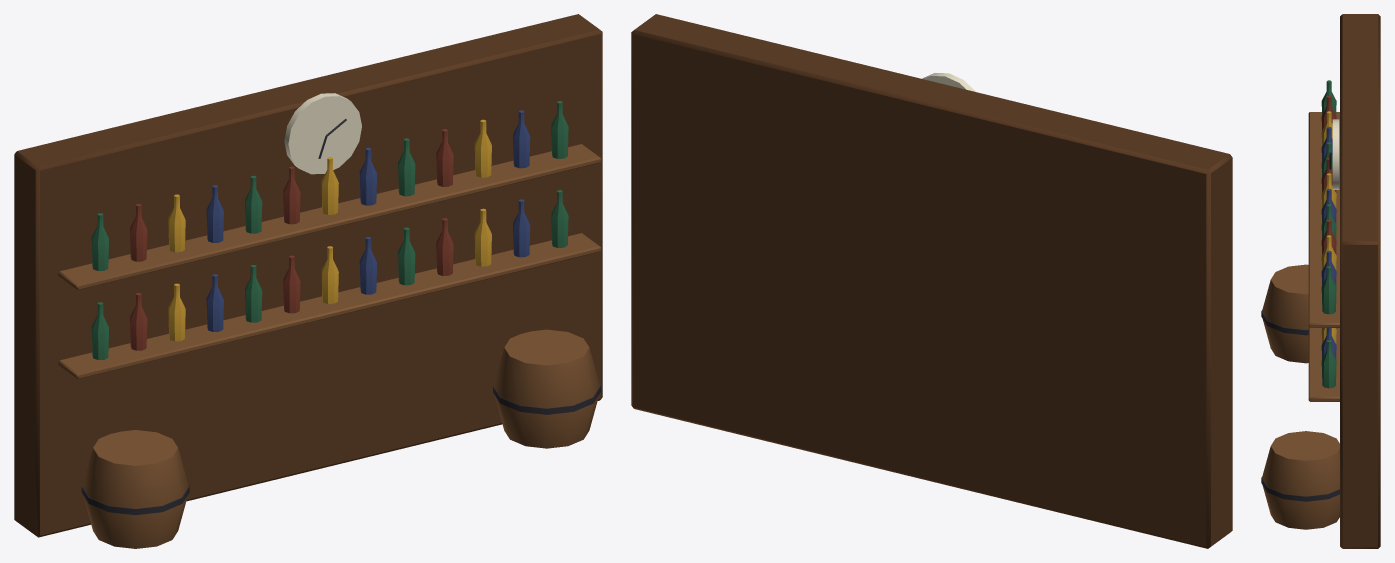
File: bar_back.glb
3 views of the same model, side by side, from view 1: azimuth 30°, elevation 25°; view 2: azimuth 150°, elevation 25°; view 3: azimuth 270°, elevation 25° (orthographic). The views are drawn at different scales.
Visible parts, largest first — view 1: bar_back; view 2: bar_back; view 3: bar_back.
Boxes of the visible parts, box(x1,y1,x2,y2) form: bar_back: box(14, 14, 602, 548); bar_back: box(631, 14, 1232, 548); bar_back: box(1261, 14, 1380, 548).
Size of the model in its own units: 4 by 2.54 by 0.88.
